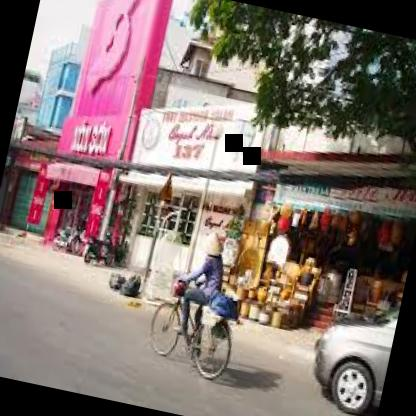car: (289, 246, 409, 416)
